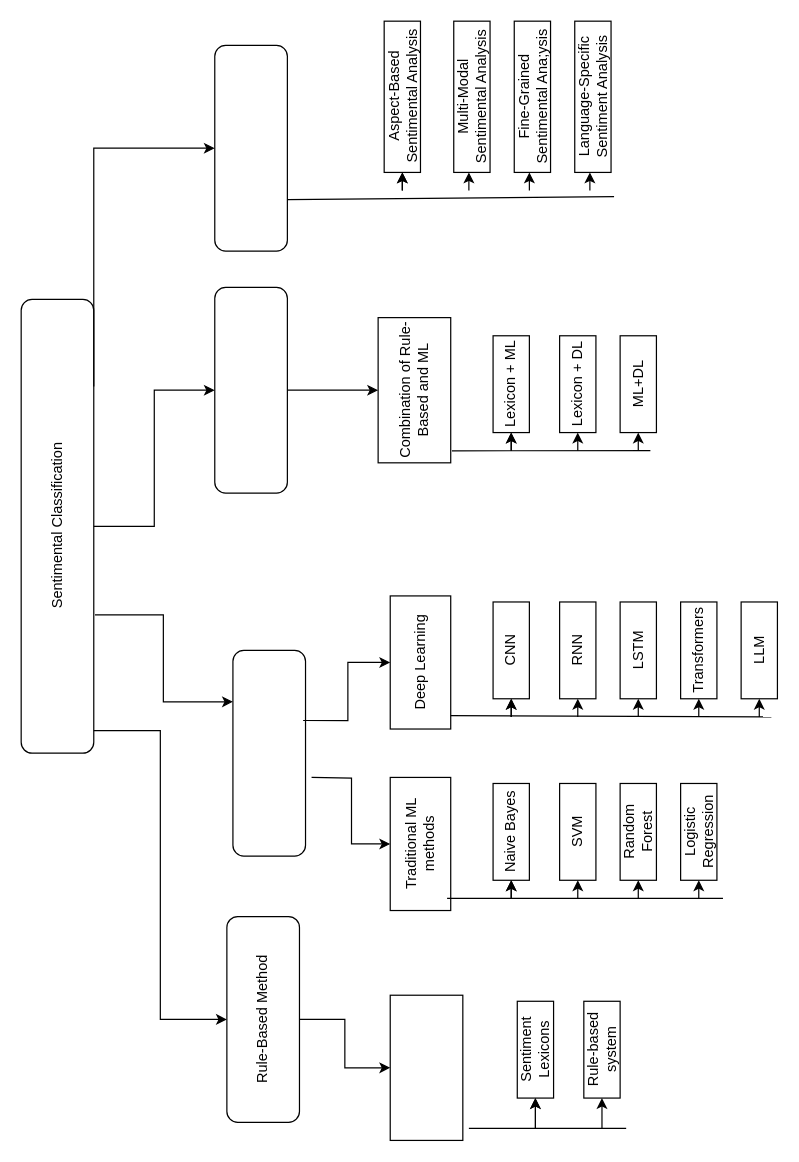
The diagram is 799 pixels wide and 1162 high, and some of its shapes have lost their labels. Here are the shapes that lost their labels. From the top down, the centre of each, then its label:
At point 250,147: "Advanced Methods".
At point 250,389: "Hybrid Methods".
At point 269,752: "Machine Learning Methods".
At point 426,1067: "Lexicon-Based".
